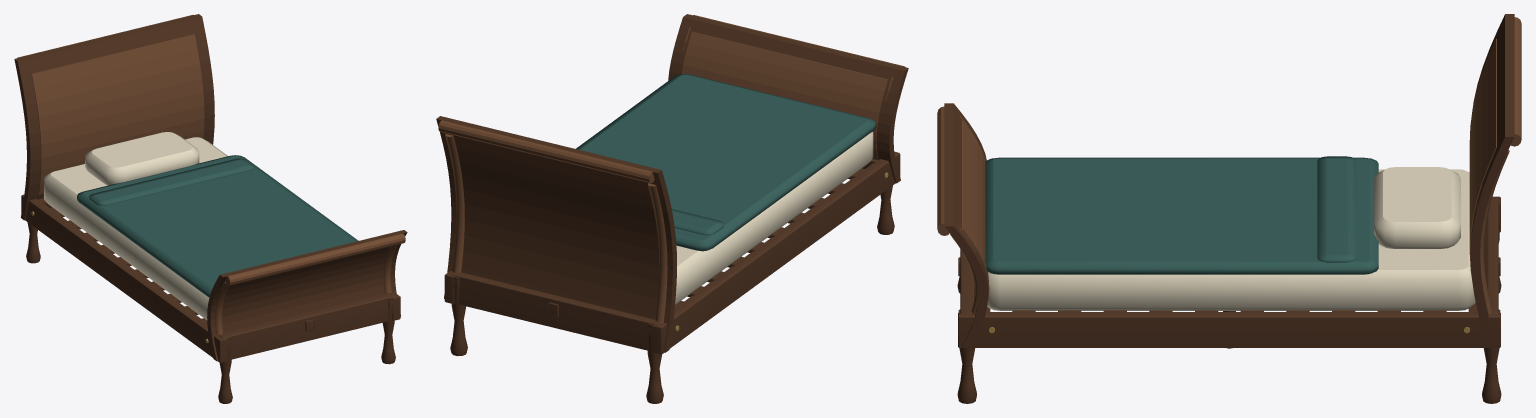
File: rpg-mansion-sleigh-single-capacity-variant-01.glb
3 views of the same model, side by side, from view 1: azimuth 30°, elevation 25°; view 2: azimuth 150°, elevation 25°; view 3: azimuth 270°, elevation 25° (orthographic). The views are drawn at different scales.
Parts seen in each view (by area): view 1: rpg-mansion-sleigh-single-capacity-variant-01; view 2: rpg-mansion-sleigh-single-capacity-variant-01; view 3: rpg-mansion-sleigh-single-capacity-variant-01.
Part boxes in pixels (x1,y1,x2,y2): rpg-mansion-sleigh-single-capacity-variant-01: [14, 14, 407, 403]; rpg-mansion-sleigh-single-capacity-variant-01: [436, 14, 908, 403]; rpg-mansion-sleigh-single-capacity-variant-01: [937, 14, 1521, 403].
Bounding box in the file's own units: 1.12 × 1.15 × 2.25.
